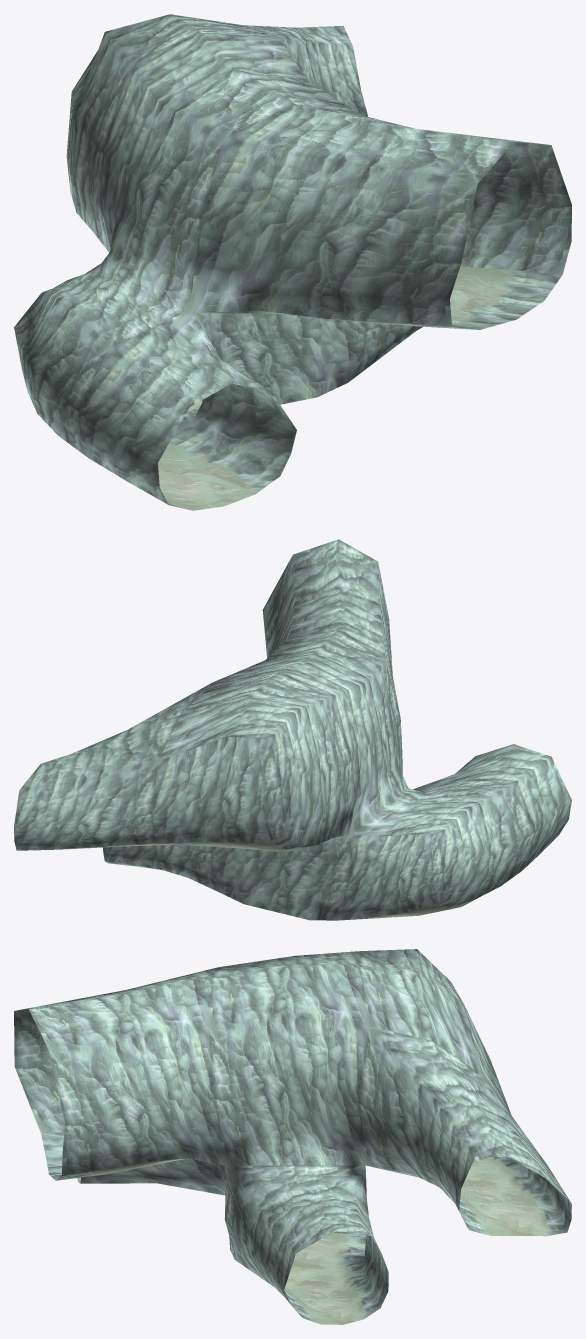
The model's file is TROLLHOLE02_PS-SECRETCAVE06.fbx.
The picture shows the model from 3 angles, top to bottom: view 1: azimuth 30°, elevation 25°; view 2: azimuth 150°, elevation 25°; view 3: azimuth 270°, elevation 25°; orthographic projection. The views are drawn at different scales.
Visible parts, largest first — view 1: TROLLHOLE02_PS-SECRETCAVE06; view 2: TROLLHOLE02_PS-SECRETCAVE06; view 3: TROLLHOLE02_PS-SECRETCAVE06.
Boxes of the visible parts, box(x1,y1,x2,y2) form: TROLLHOLE02_PS-SECRETCAVE06: box(14, 14, 571, 510); TROLLHOLE02_PS-SECRETCAVE06: box(14, 539, 571, 920); TROLLHOLE02_PS-SECRETCAVE06: box(14, 949, 571, 1324).
Size of the model in its own units: 171544 by 110906 by 205632.
4 materials, 4 textured.
